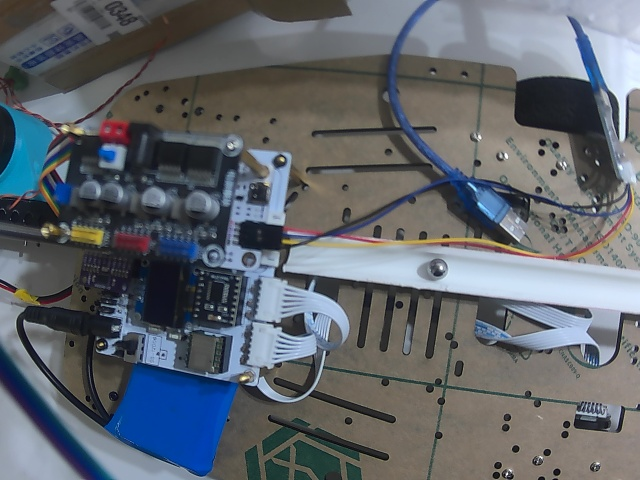steelball: (425, 258, 448, 279)
